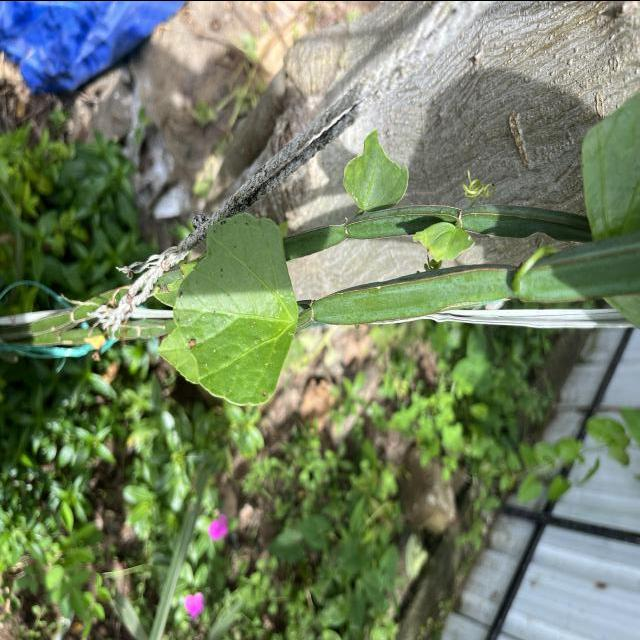Cissus quadrangularis: (172, 209, 302, 408)
